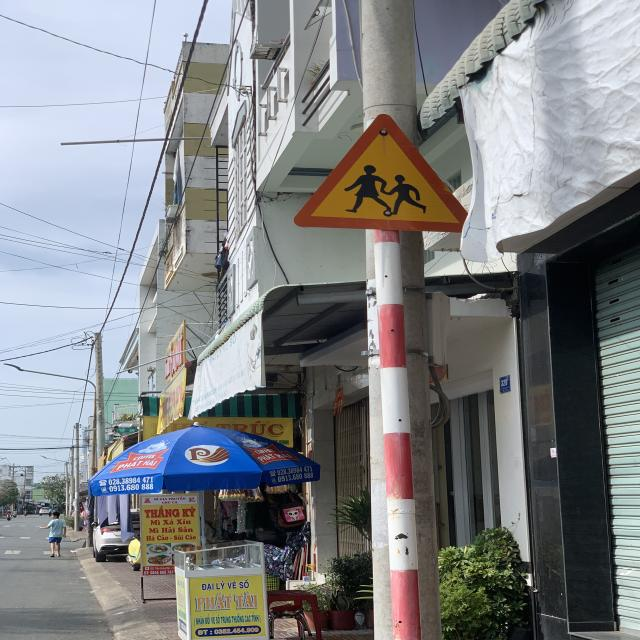Vong_Xuyen: (292, 114, 486, 232)
